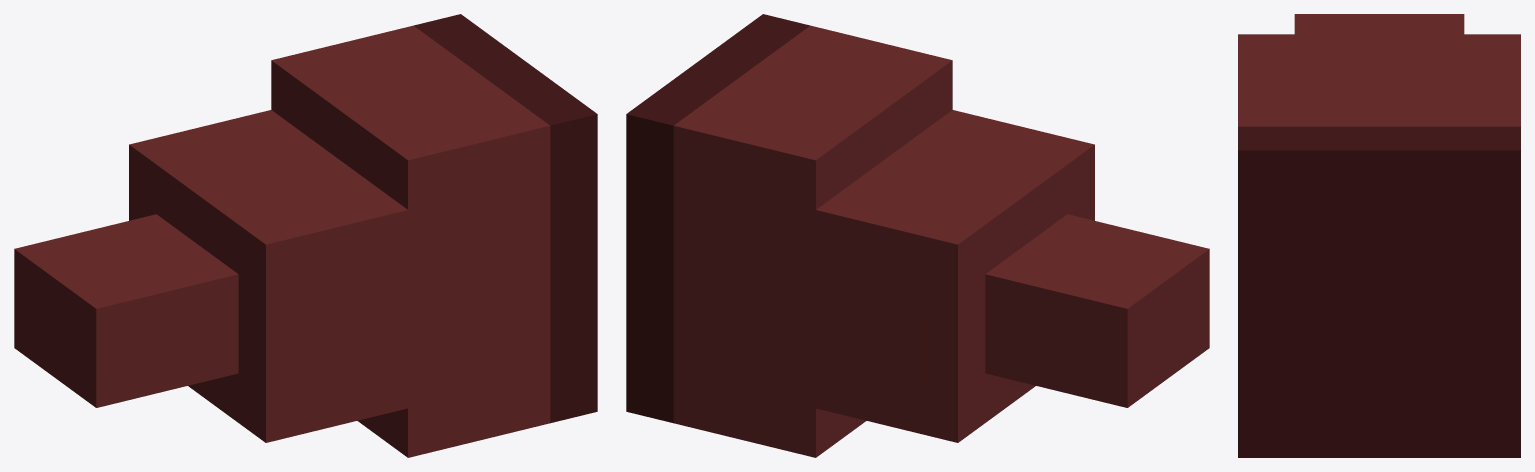
Rendered from Shoulder.obj.
3 views of the same model, side by side, from view 1: azimuth 30°, elevation 25°; view 2: azimuth 150°, elevation 25°; view 3: azimuth 270°, elevation 25° (orthographic). The views are drawn at different scales.
Bounding box in the file's own units: 1 × 0.6 × 0.5.
1 material, 1 textured.
